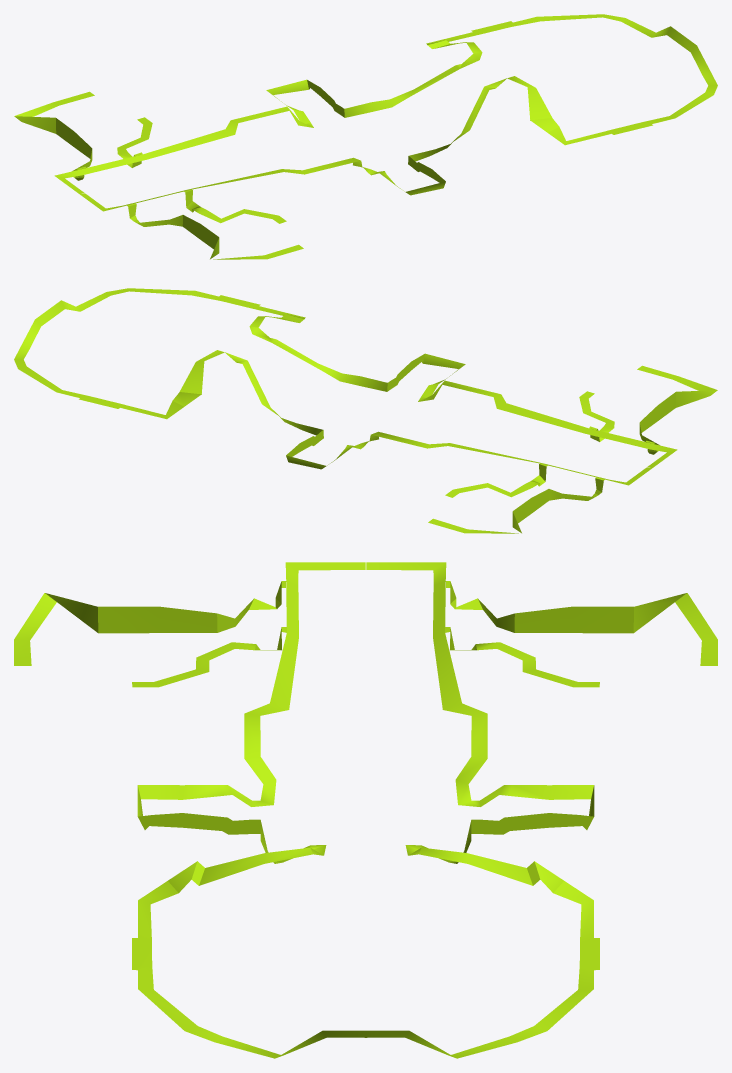
Rendered from Ship-GapCap.fbx.
3 views of the same model, one above another, from view 1: azimuth 30°, elevation 25°; view 2: azimuth 150°, elevation 25°; view 3: azimuth 270°, elevation 25° (orthographic). The views are drawn at different scales.
Parts seen in each view (by area): view 1: Ship_GapCap; view 2: Ship_GapCap; view 3: Ship_GapCap.
Part boxes in pixels (bbox=[...]): Ship_GapCap: bbox=[14, 14, 717, 259]; Ship_GapCap: bbox=[14, 288, 717, 533]; Ship_GapCap: bbox=[14, 562, 717, 1058].
Size of the model in its own units: 53.2 by 4.02 by 32.65.
